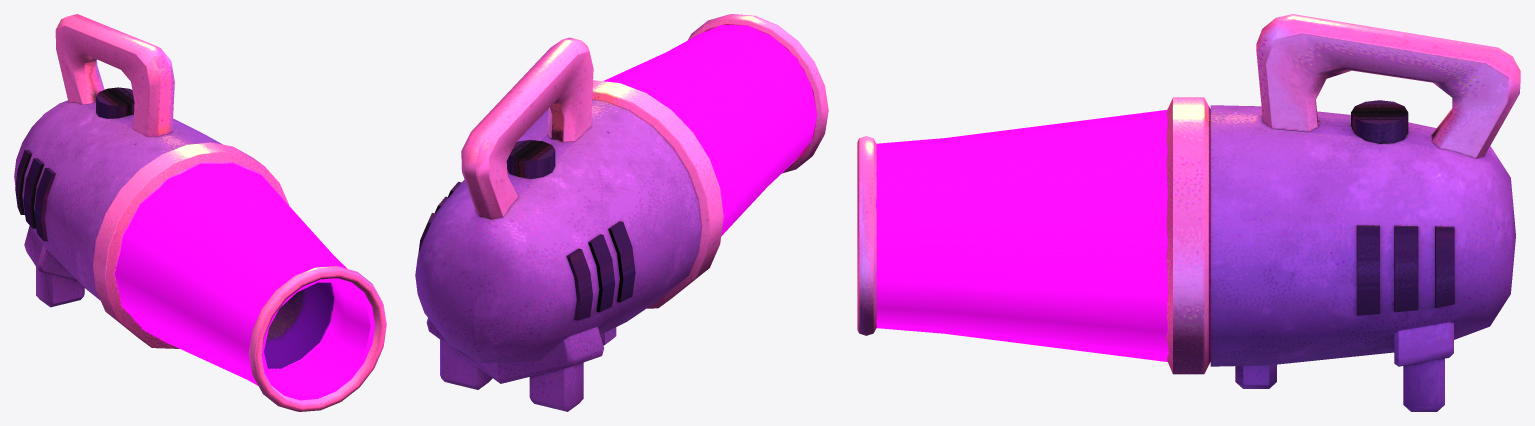
File: Vacuum.glb
3 renders of one model, left to right at view 1: azimuth 30°, elevation 25°; view 2: azimuth 150°, elevation 25°; view 3: azimuth 270°, elevation 25°, orthographic. The views are drawn at different scales.
Visible parts, largest first — view 1: Vacuum_HandleRiser; view 2: Vacuum_HandleRiser; view 3: Vacuum_HandleRiser.
Boxes of the visible parts, bbox=[...] form: Vacuum_HandleRiser: bbox=[14, 14, 386, 411]; Vacuum_HandleRiser: bbox=[415, 14, 828, 411]; Vacuum_HandleRiser: bbox=[857, 14, 1520, 411].
Bounding box in the file's own units: 0.214 × 0.3056 × 0.5107.
Materials: 1 (1 with a texture image).
